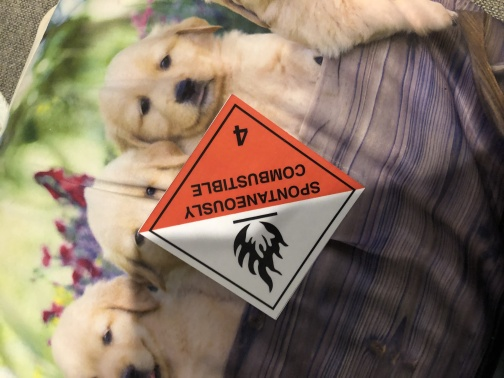SpontaneouslyCombustible: (139, 94, 366, 320)
